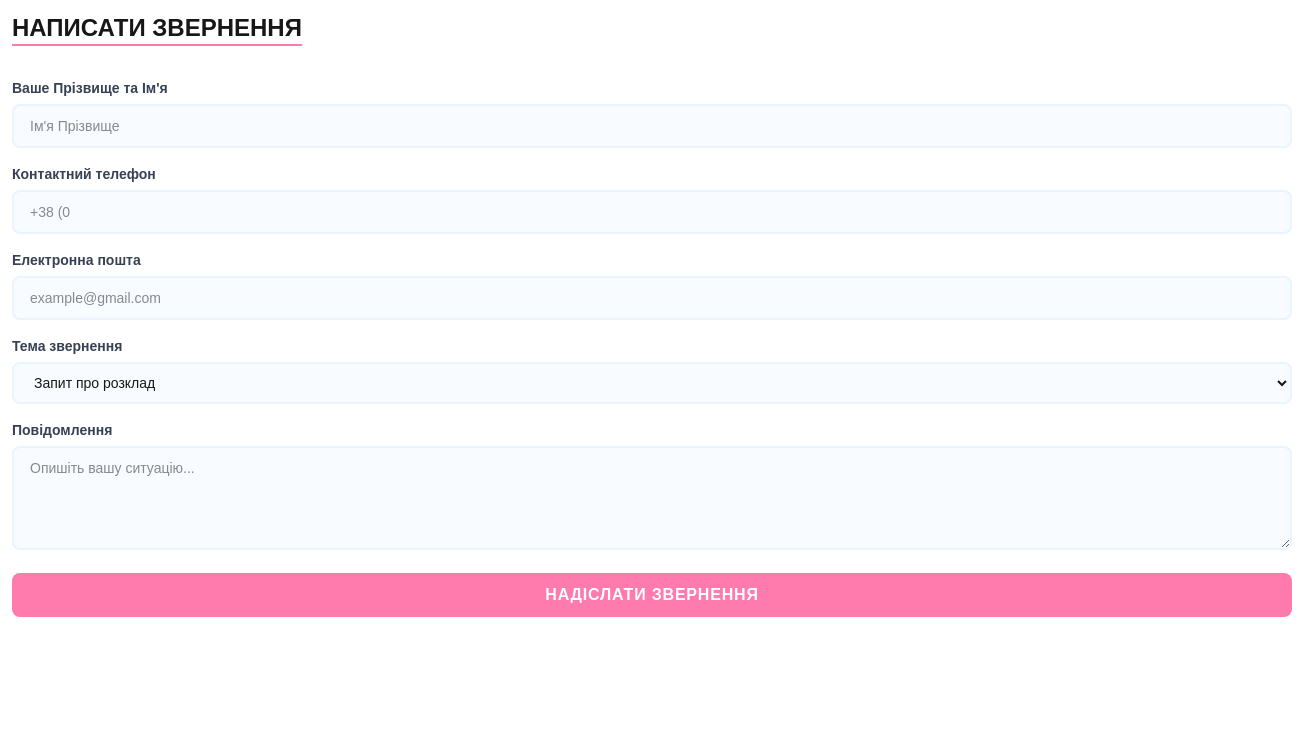
Test: ContactsForm › Integration Tests: Form Submission › показує повідомлення про успіх після відправки
This screenshot has width=1304, height=732.
Click the button "Надіслати звернення".
click(652, 595)  # box [12,573,1292,617]
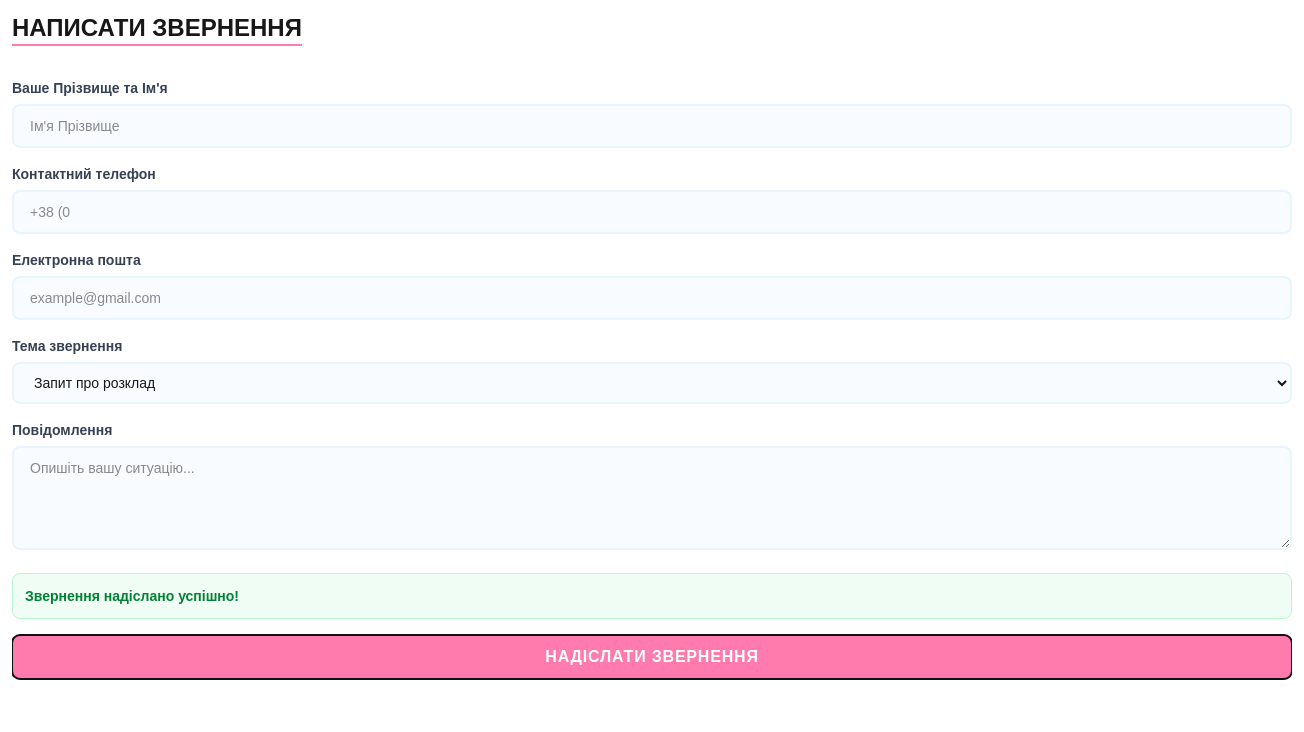
Expected: the text "Звернення надіслано успішно!" is shown, [12,573,1292,619]
